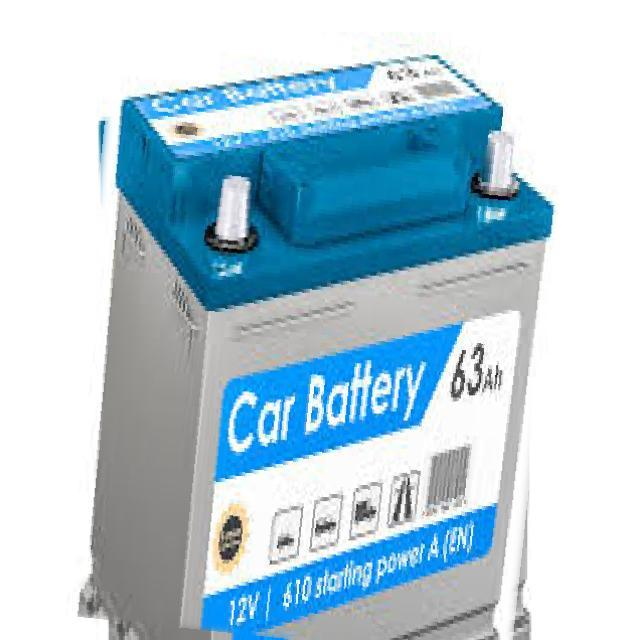Battery: (68, 36, 562, 639)
